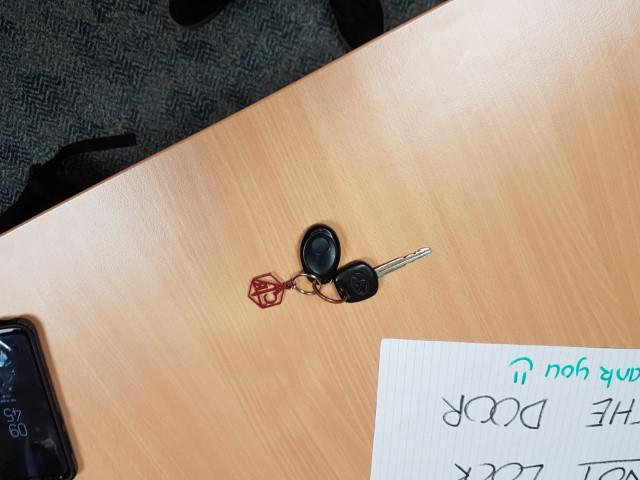key: (332, 244, 441, 307)
